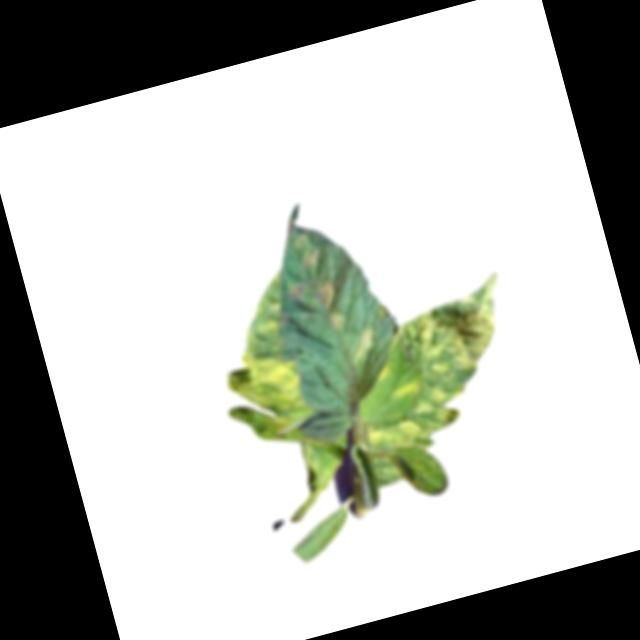Leaf_Mold: (392, 269, 531, 411), (214, 338, 311, 449), (363, 404, 460, 458), (348, 321, 384, 365), (313, 274, 344, 313), (295, 241, 326, 274), (389, 374, 421, 403), (326, 307, 350, 328)
